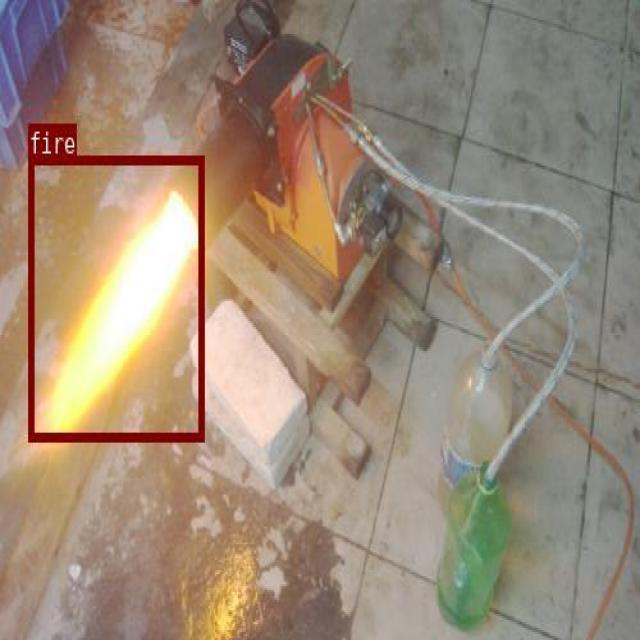fire: (28, 155, 203, 441)
